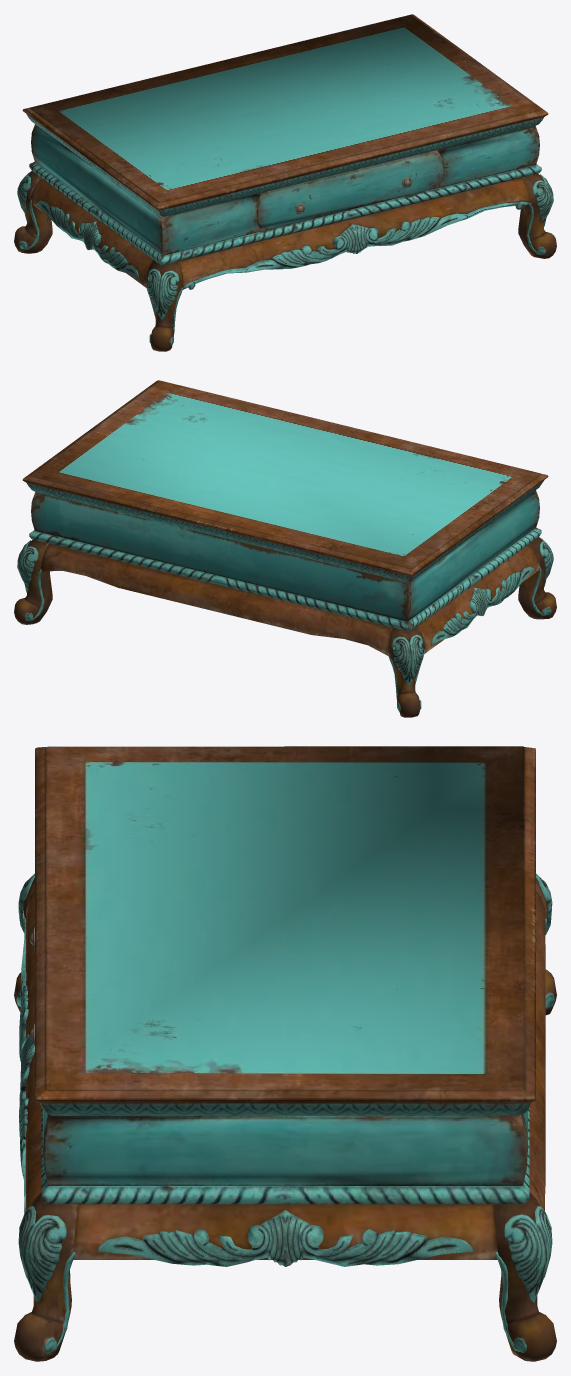
The model's file is CoffeeTable_01.glb.
The picture shows the model from 3 angles, top to bottom: view 1: azimuth 30°, elevation 25°; view 2: azimuth 150°, elevation 25°; view 3: azimuth 270°, elevation 25°; orthographic projection. The views are drawn at different scales.
Parts seen in each view (by area): view 1: CoffeeTable_01; view 2: CoffeeTable_01; view 3: CoffeeTable_01.
Boxes of the visible parts, <box> form: CoffeeTable_01: <box>14,14,556,351</box>; CoffeeTable_01: <box>14,380,556,717</box>; CoffeeTable_01: <box>14,746,556,1361</box>.
Size of the model in its own units: 1.54 by 0.5232 by 0.9728.
Materials: 1 (1 with a texture image).
